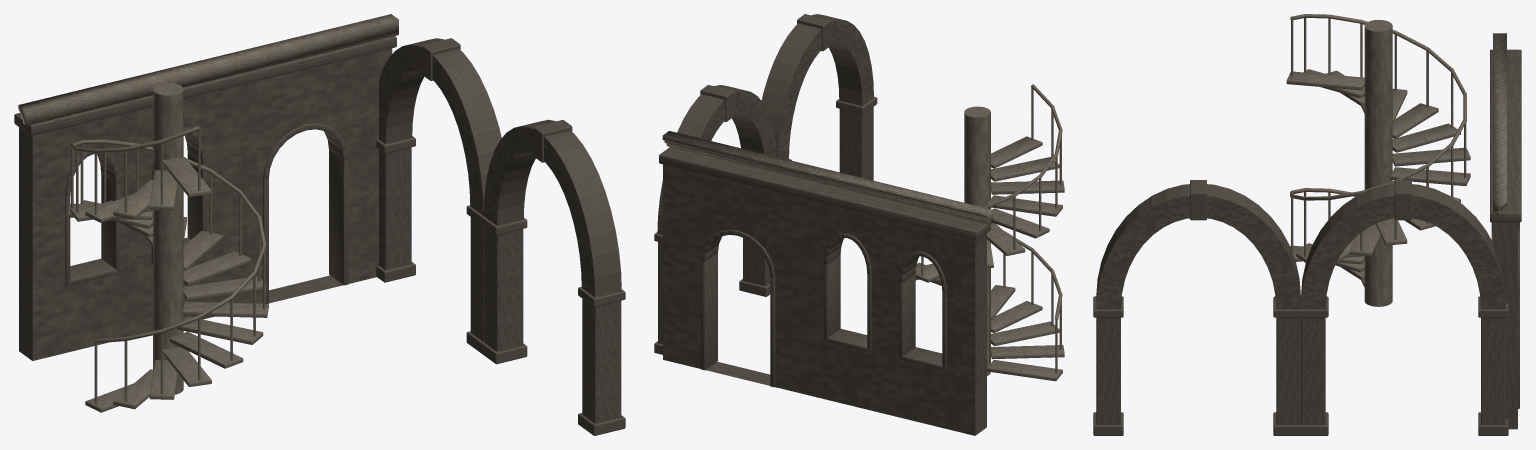
Rendered from courtyard.glb.
3 views of the same model, side by side, from view 1: azimuth 30°, elevation 25°; view 2: azimuth 150°, elevation 25°; view 3: azimuth 270°, elevation 25° (orthographic). The views are drawn at different scales.
Parts seen in each view (by area): view 1: gothic_stone_wall, spiral_stone_stairs, pointed_archway_2, pointed_archway_1, wall_stepped_cornice; view 2: gothic_stone_wall, spiral_stone_stairs, pointed_archway_2, pointed_archway_1, wall_stepped_cornice; view 3: spiral_stone_stairs, pointed_archway_2, pointed_archway_1, gothic_stone_wall, wall_stepped_cornice.
Boxes of the visible parts, bbox=[...] form: gothic_stone_wall: bbox=[14, 36, 396, 360]; spiral_stone_stairs: bbox=[68, 83, 268, 412]; pointed_archway_2: bbox=[480, 119, 625, 435]; pointed_archway_1: bbox=[376, 38, 501, 353]; wall_stepped_cornice: bbox=[18, 14, 398, 125]; gothic_stone_wall: bbox=[659, 147, 990, 435]; spiral_stone_stairs: bbox=[915, 84, 1064, 381]; pointed_archway_2: bbox=[761, 14, 877, 180]; pointed_archway_1: bbox=[654, 85, 776, 354]; wall_stepped_cornice: bbox=[662, 131, 992, 224]; spiral_stone_stairs: bbox=[1286, 14, 1470, 306]; pointed_archway_2: bbox=[1093, 180, 1302, 435]; pointed_archway_1: bbox=[1299, 180, 1508, 435]; gothic_stone_wall: bbox=[1490, 49, 1521, 429]; wall_stepped_cornice: bbox=[1493, 33, 1506, 214].
Size of the model in its own units: 5.84 by 4.33 by 6.06.
Materials: 2 (2 with a texture image).
